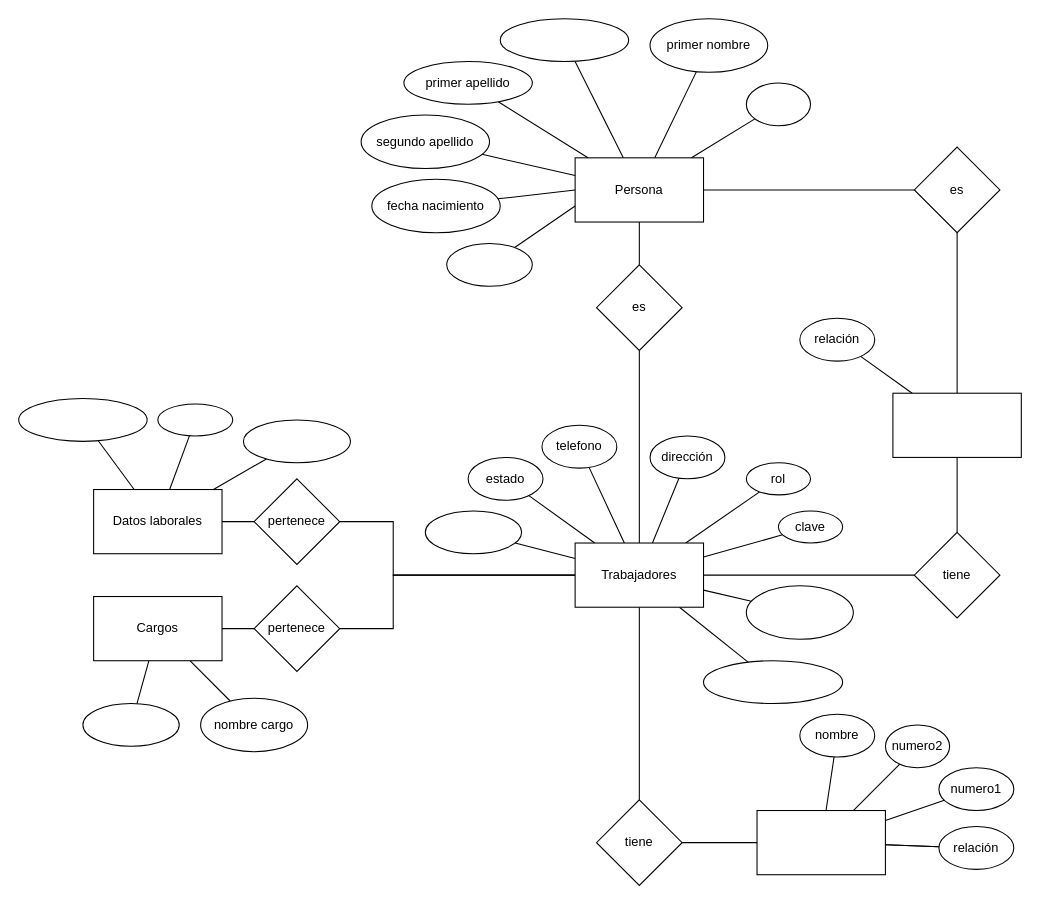
Some shapes in this 1040 by 904 pixel diagram are drawn without their labels. The centre of each missing label's shape, as x and y in pixels:
"Cargas" goes at [956,424].
"Contactos emergencia" goes at [820,842].
"departamento" goes at [296,441].
"fecha inactividad" goes at [772,682].
"fecha ingreso" goes at [799,612].
"id cargo" goes at [130,724].
"id datos laborales" goes at [82,419].
"id trabajador" goes at [473,532].
"rut" goes at [778,104].
"segundo nombre" goes at [564,40].
"sexo" goes at [489,264].
"área" goes at [195,419].
